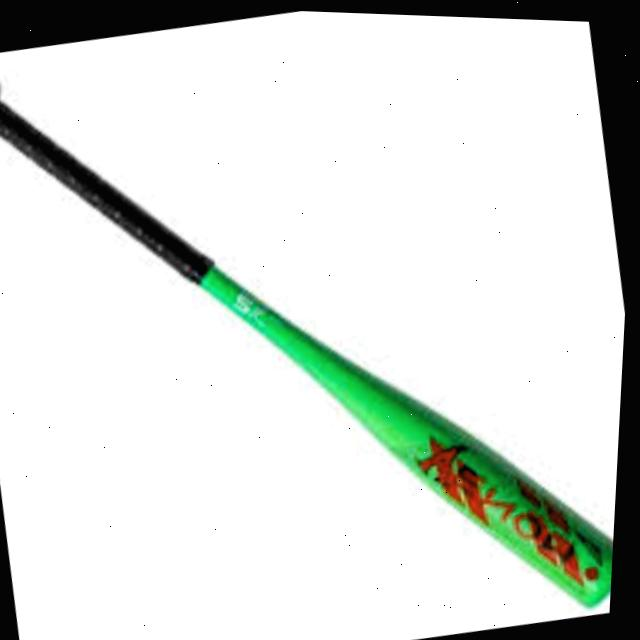baseball bat: (0, 77, 619, 600)
